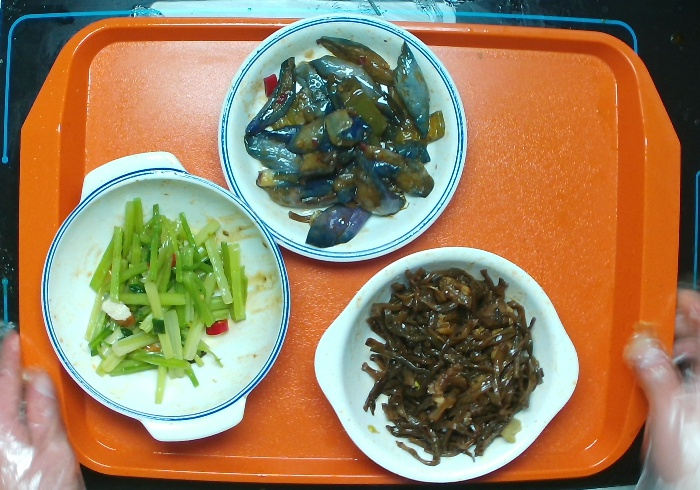HZYJPL-Dai_Er_Bai_Yuan_Wan: (310, 241, 586, 485)
HZYJPL-Lan_Bian_Dai_Er_Wan: (34, 141, 297, 454)
HZYJPL-Lan_Bian_Yuan_Die: (215, 9, 474, 267)
